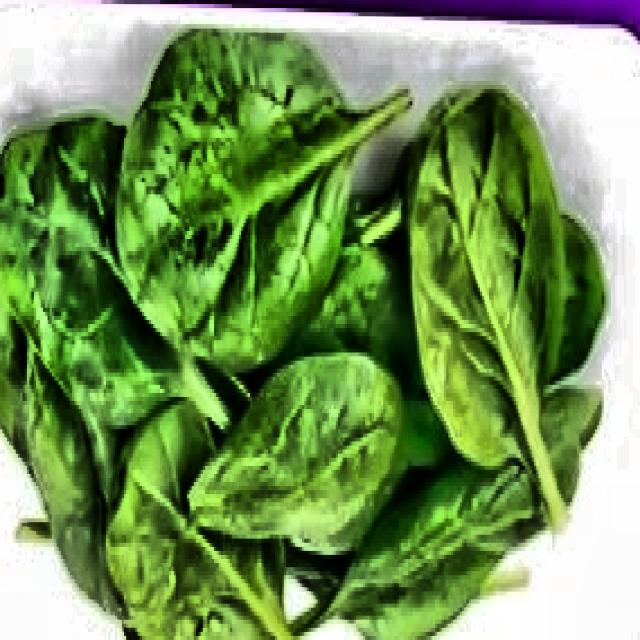Vegetable: (1, 41, 602, 640)
